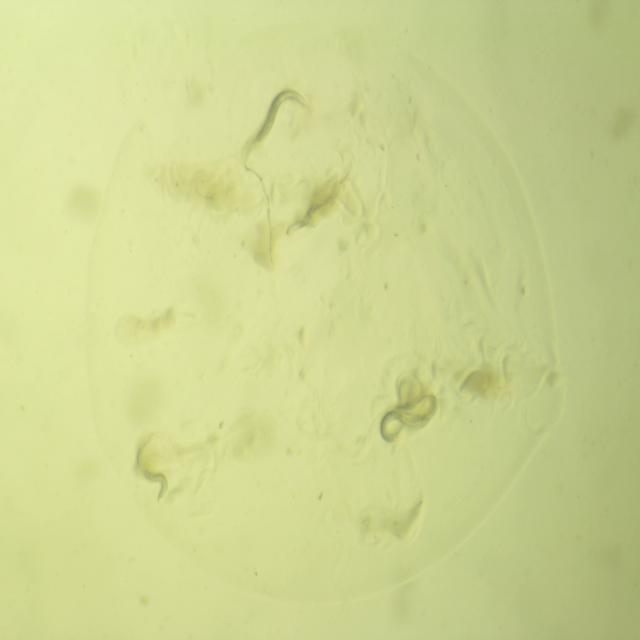worm: (242, 82, 314, 164), (280, 164, 348, 246), (130, 435, 171, 506), (385, 385, 445, 427), (374, 410, 434, 448)
